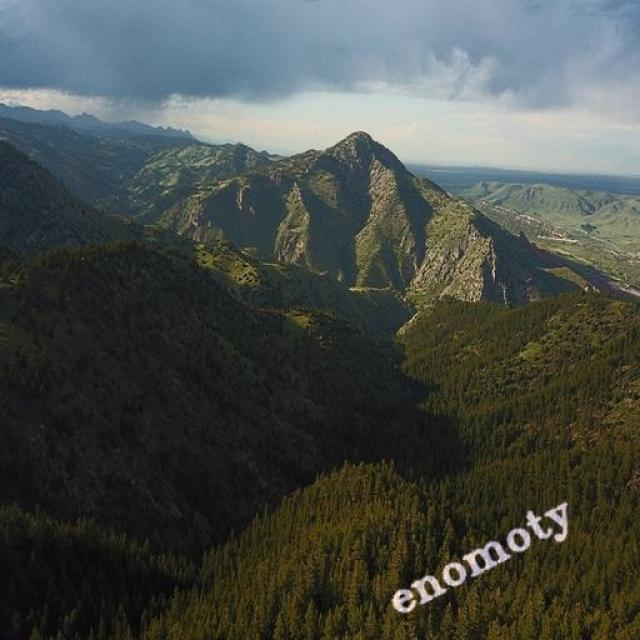watermark: (386, 488, 576, 622)
